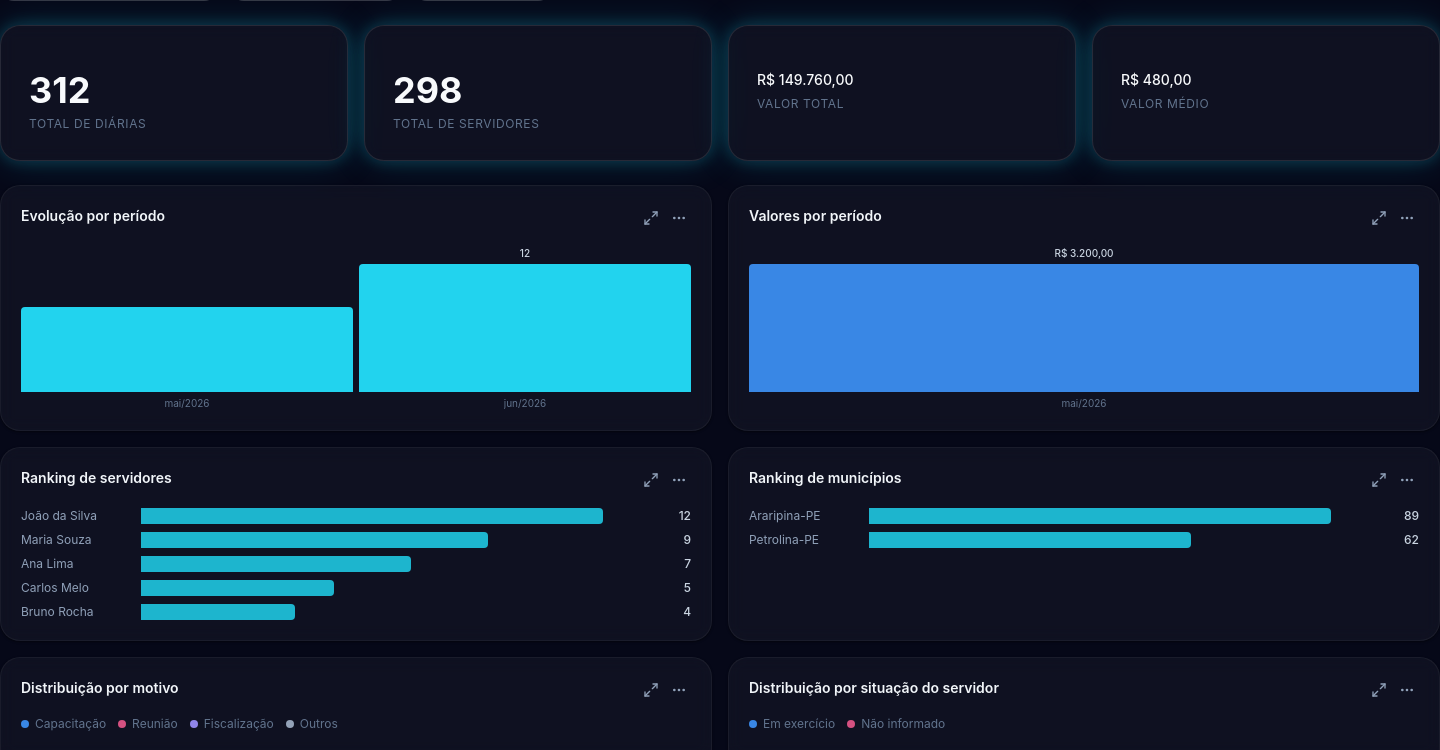
DashboardRecorte › com indicadores válidos › ranking de servidores: limita o gráfico ao top 5, mas a tabela (equivalente textual) lista os 7
Expected: the heading "Ranking de servidores" is shown, [21,468,172,488]
Click the button named "Mais opções" in the row of "Ranking de servidores".
click(679, 480)  # box [667,468,691,492]
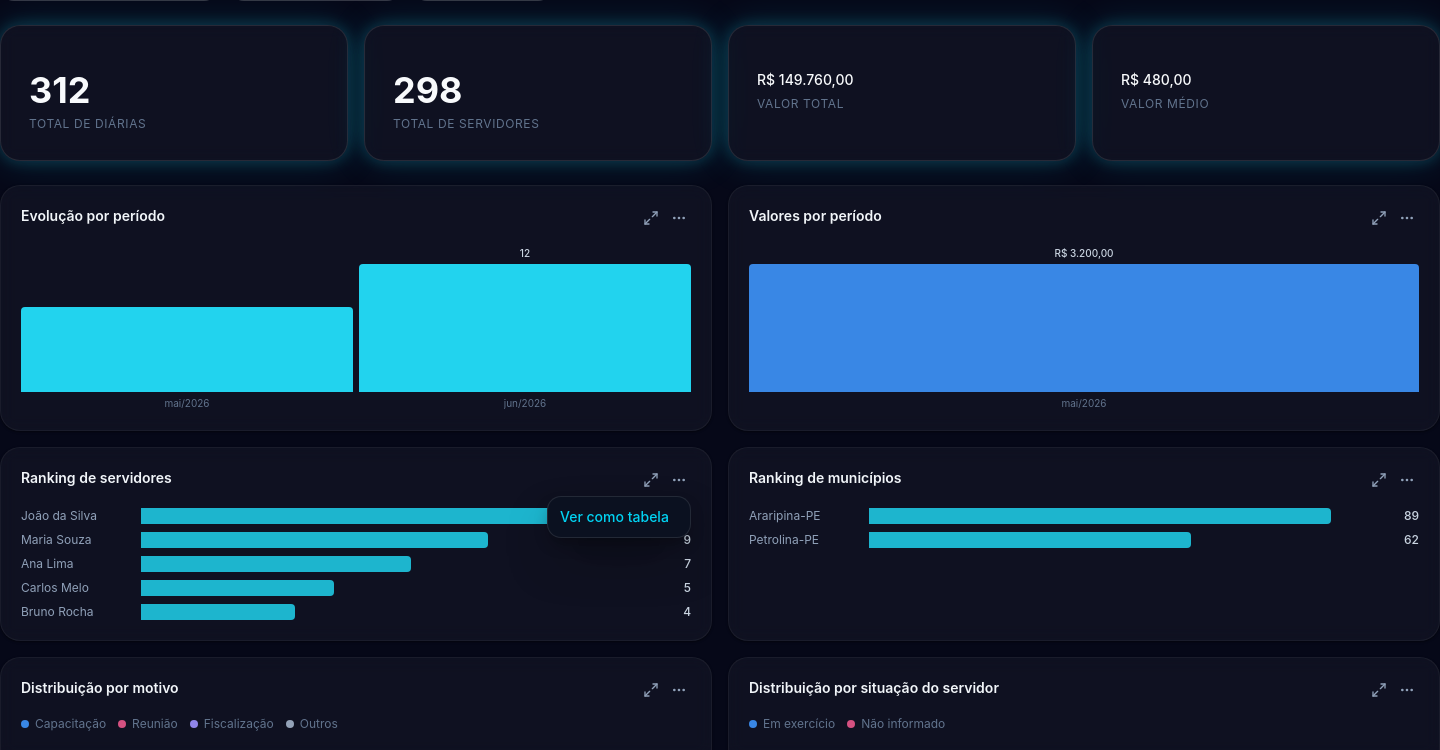
Click the button "Ver como tabela".
click(619, 517)  # box [548,501,690,533]
(page scrolled)
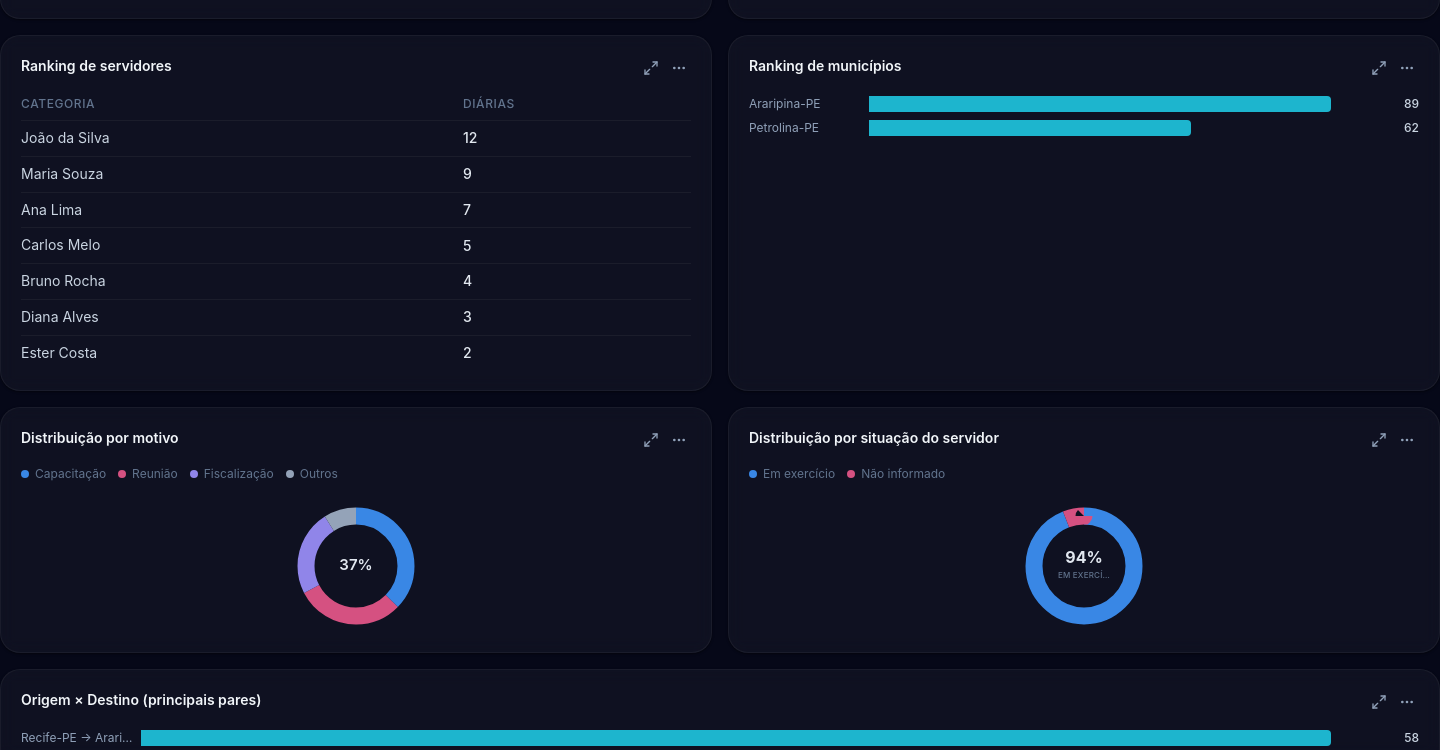
Result: the number of rows is 8
Result: the text "Ester Costa" is shown at [21,335,463,370]
